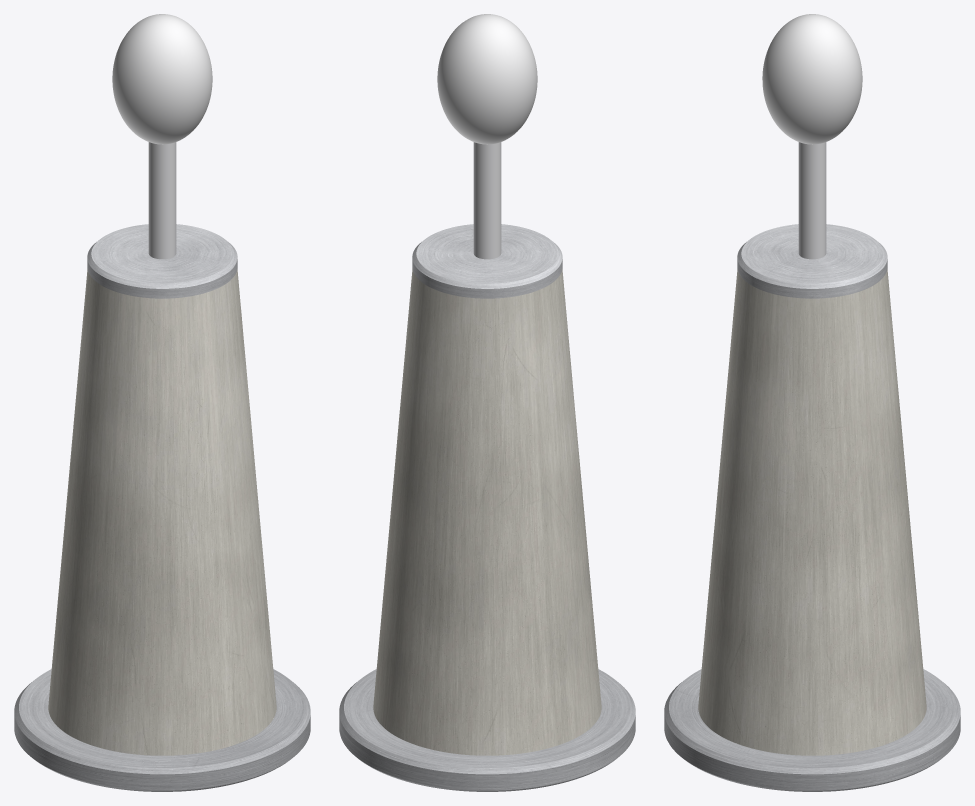
Rendered from bishop-white-hd.glb.
The picture shows the model from 3 angles, left to right: view 1: azimuth 30°, elevation 25°; view 2: azimuth 150°, elevation 25°; view 3: azimuth 270°, elevation 25°; orthographic projection.
Visible parts, largest first — view 1: ferro-orbis_bishop_white; view 2: ferro-orbis_bishop_white; view 3: ferro-orbis_bishop_white.
Part boxes in pixels (x1,y1,x2,y2): ferro-orbis_bishop_white: [14, 14, 310, 791]; ferro-orbis_bishop_white: [339, 14, 635, 791]; ferro-orbis_bishop_white: [664, 14, 960, 791].
Bounding box in the file's own units: 0.5088 × 1.35 × 0.5088.
5 materials, 3 textured.
